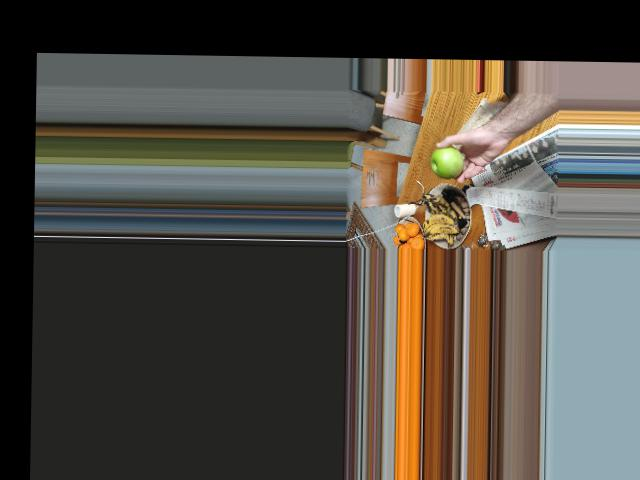apple: (431, 145, 463, 175)
